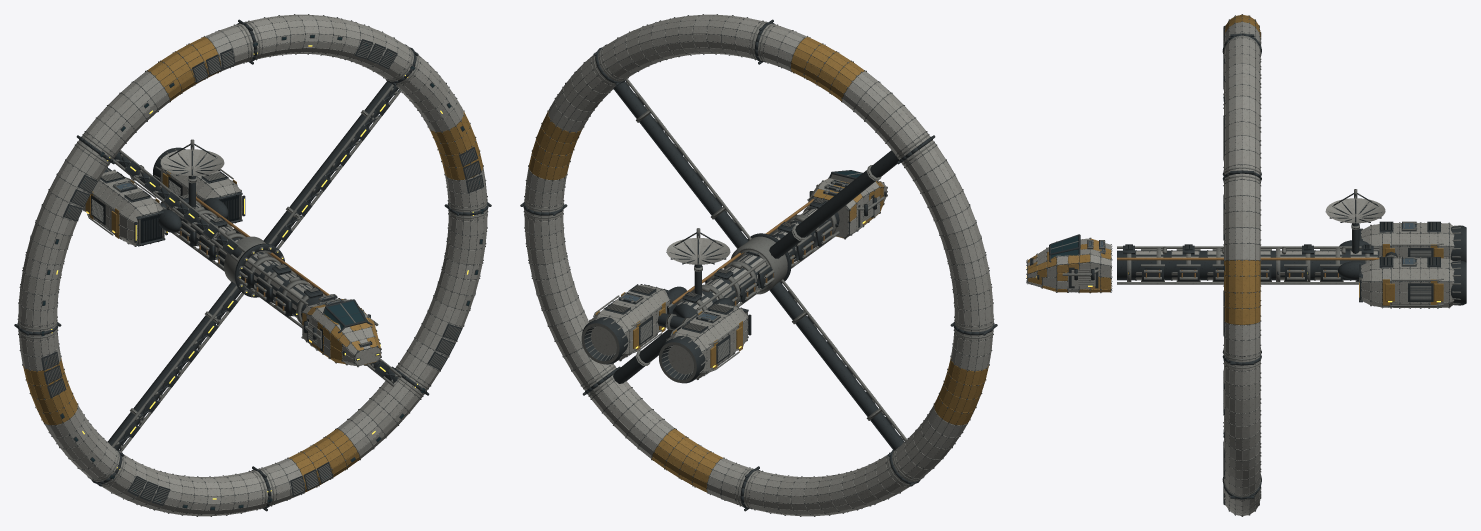
The picture shows the model from 3 angles, left to right: view 1: azimuth 30°, elevation 25°; view 2: azimuth 150°, elevation 25°; view 3: azimuth 270°, elevation 25°; orthographic projection. The views are drawn at different scales.
Visible parts, largest first — view 1: rotor:dark-structure, rotor:pale-steel-1, rotor:pale-steel-2, rotor:pale-steel-0, rotor:machined-alloy, rotor:ochre-0, dark-structure, pale-steel-0, machined-alloy, rotor:recess-black, pale-steel-2, pale-steel-1 (+4 smaller); view 2: rotor:pale-steel-1, rotor:pale-steel-2, rotor:dark-structure, rotor:pale-steel-0, rotor:ochre-0, dark-structure, pale-steel-0, rotor:machined-alloy, machined-alloy, rotor:recess-black, pale-steel-2, pale-steel-1 (+2 smaller); view 3: dark-structure, pale-steel-0, machined-alloy, rotor:pale-steel-2, rotor:pale-steel-1, rotor:pale-steel-0, rotor:ochre-0, rotor:dark-structure, pale-steel-1, rotor:machined-alloy, ochre-0, service-ochre (+3 smaller).
Part boxes in pixels (x1,y1,x2,y2): rotor:dark-structure: (14, 14, 491, 516); rotor:pale-steel-1: (19, 15, 486, 515); rotor:pale-steel-2: (18, 14, 487, 516); rotor:pale-steel-0: (18, 15, 487, 515); rotor:machined-alloy: (17, 14, 488, 516); rotor:ochre-0: (23, 37, 482, 492); dark-structure: (83, 143, 381, 366); pale-steel-0: (83, 149, 380, 365); machined-alloy: (83, 139, 381, 367); rotor:recess-black: (21, 25, 479, 503); pale-steel-2: (161, 149, 374, 366); pale-steel-1: (160, 149, 380, 362); rotor:pale-steel-1: (525, 15, 992, 515); rotor:pale-steel-2: (524, 14, 993, 516); rotor:dark-structure: (520, 14, 997, 516); rotor:pale-steel-0: (524, 15, 993, 515); rotor:ochre-0: (529, 37, 988, 492); dark-structure: (582, 170, 887, 383); pale-steel-0: (589, 174, 886, 379); rotor:machined-alloy: (523, 14, 994, 516); machined-alloy: (581, 172, 887, 382); rotor:recess-black: (532, 25, 990, 503); pale-steel-2: (666, 181, 886, 309); pale-steel-1: (666, 189, 886, 305); dark-structure: (1026, 193, 1466, 308); pale-steel-0: (1027, 198, 1454, 307); machined-alloy: (1026, 189, 1460, 308); rotor:pale-steel-2: (1224, 22, 1260, 515); rotor:pale-steel-1: (1224, 26, 1260, 516); rotor:pale-steel-0: (1224, 32, 1260, 513); rotor:ochre-0: (1224, 14, 1260, 324); rotor:dark-structure: (1222, 14, 1261, 516); pale-steel-1: (1027, 198, 1384, 289); rotor:machined-alloy: (1223, 14, 1261, 516); ochre-0: (1027, 244, 1443, 305); service-ochre: (1117, 257, 1379, 277).
Size of the model in its own units: 84.54 by 84.51 by 73.81.
13 materials, 11 textured.
